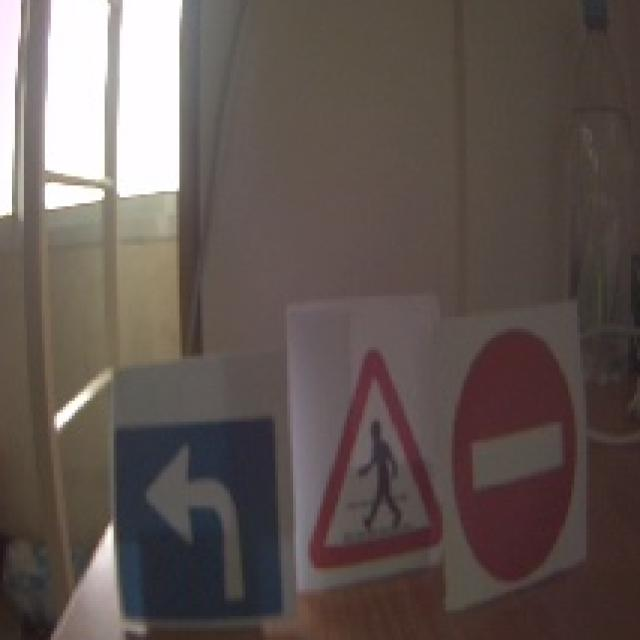DoNotEnterSign: (450, 324, 579, 589)
